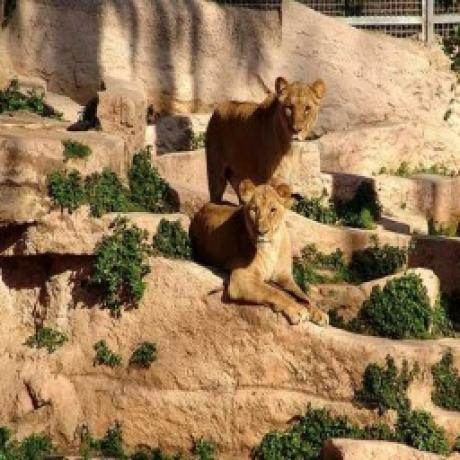Lion: (187, 178, 333, 328), (200, 74, 328, 208)
